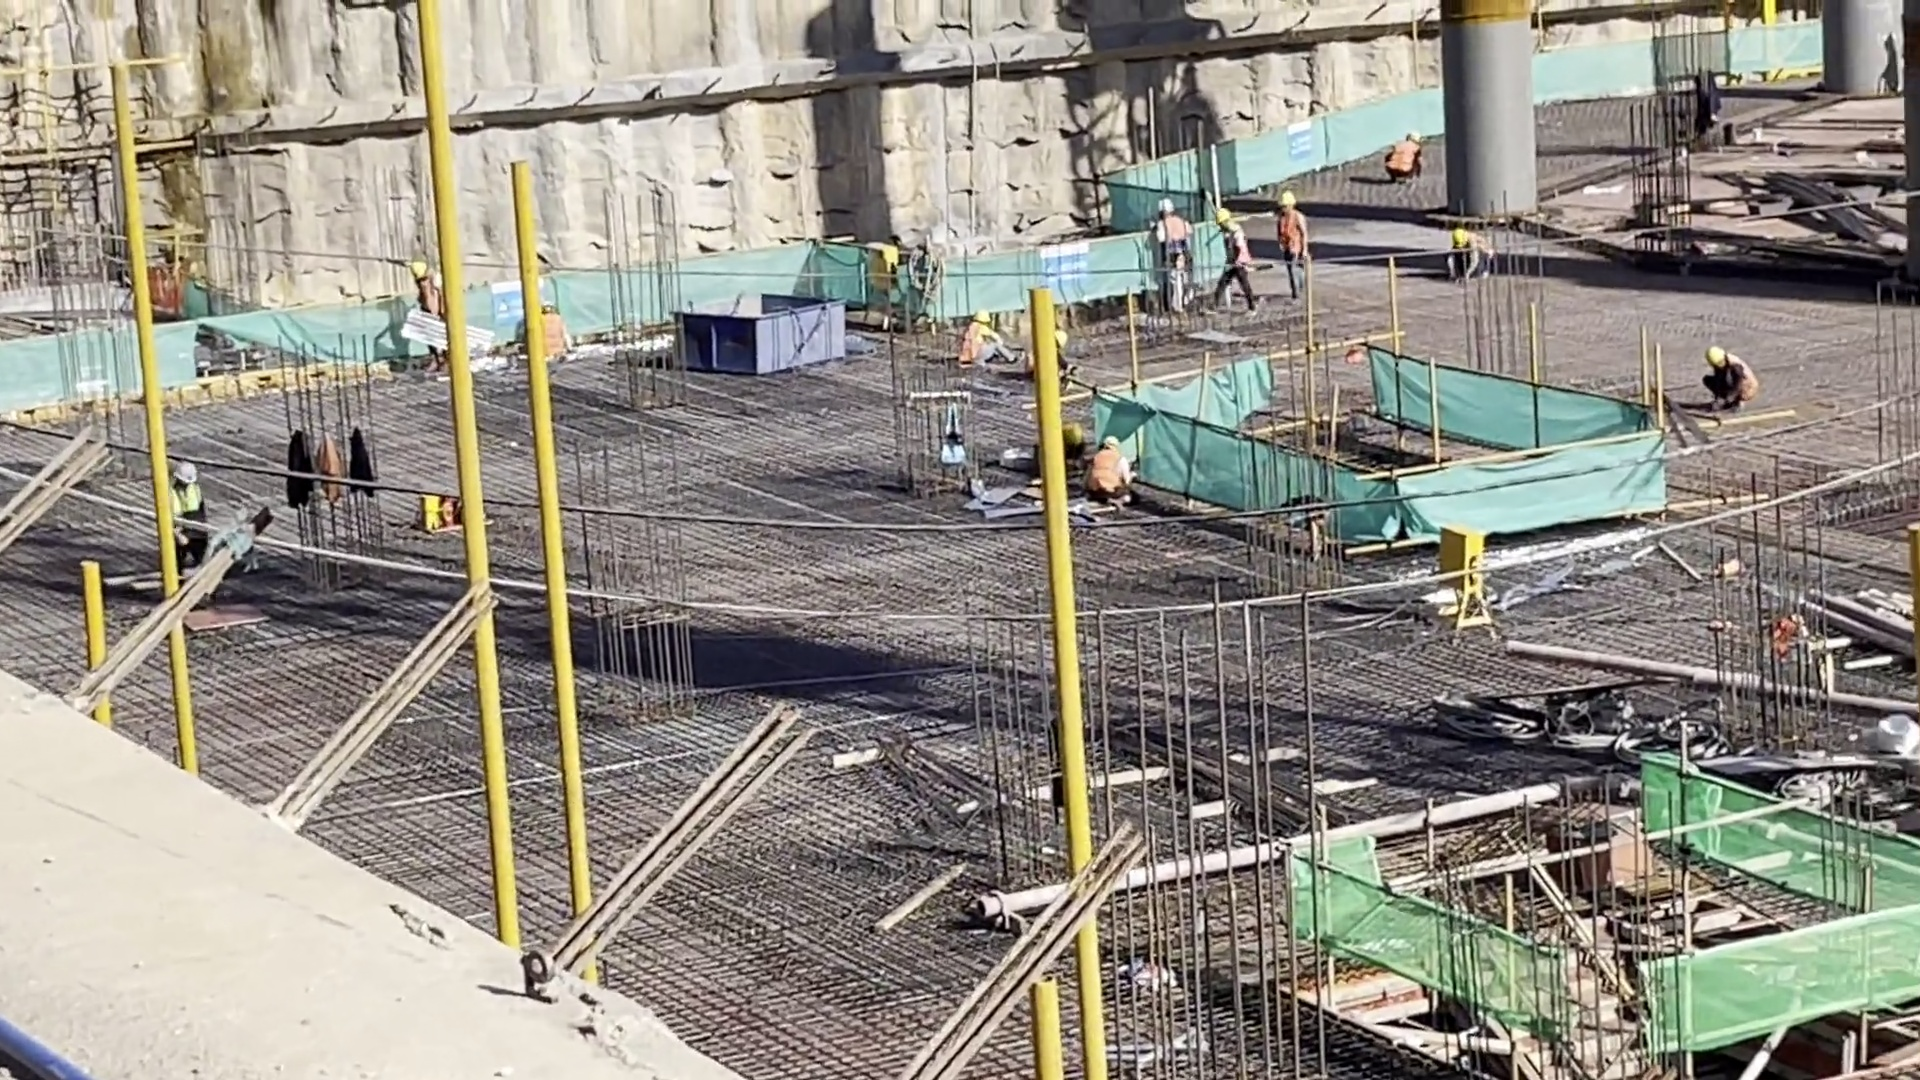ebox: (1440, 527, 1486, 615), (869, 243, 900, 287)
helmet: (174, 462, 197, 483), (1706, 347, 1725, 365), (409, 261, 427, 279), (1452, 230, 1469, 249), (1156, 196, 1175, 213), (1214, 208, 1231, 224), (1278, 191, 1296, 206), (973, 309, 990, 322), (1055, 330, 1067, 348)
hopper: (675, 293, 843, 379)
person: (169, 461, 212, 576), (1211, 208, 1255, 319), (1156, 196, 1194, 312), (1697, 347, 1759, 406), (1278, 191, 1308, 307), (1085, 437, 1133, 506), (961, 308, 1009, 369), (1445, 229, 1492, 280), (1383, 132, 1422, 181)
slogan: (1039, 239, 1094, 289), (490, 283, 520, 323), (1286, 122, 1313, 156)
vest: (1090, 450, 1123, 496), (1278, 212, 1305, 262), (958, 324, 985, 361), (1392, 141, 1420, 172)
